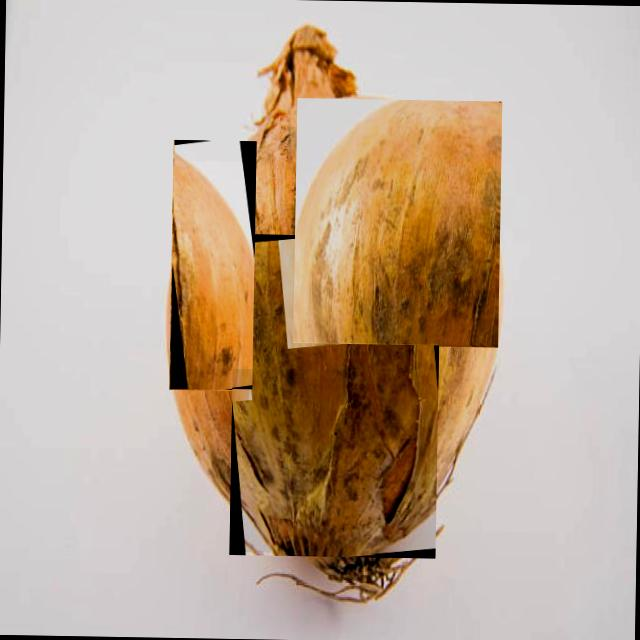healthy: (295, 100, 499, 342), (173, 162, 254, 369)
mould: (233, 236, 437, 554)
